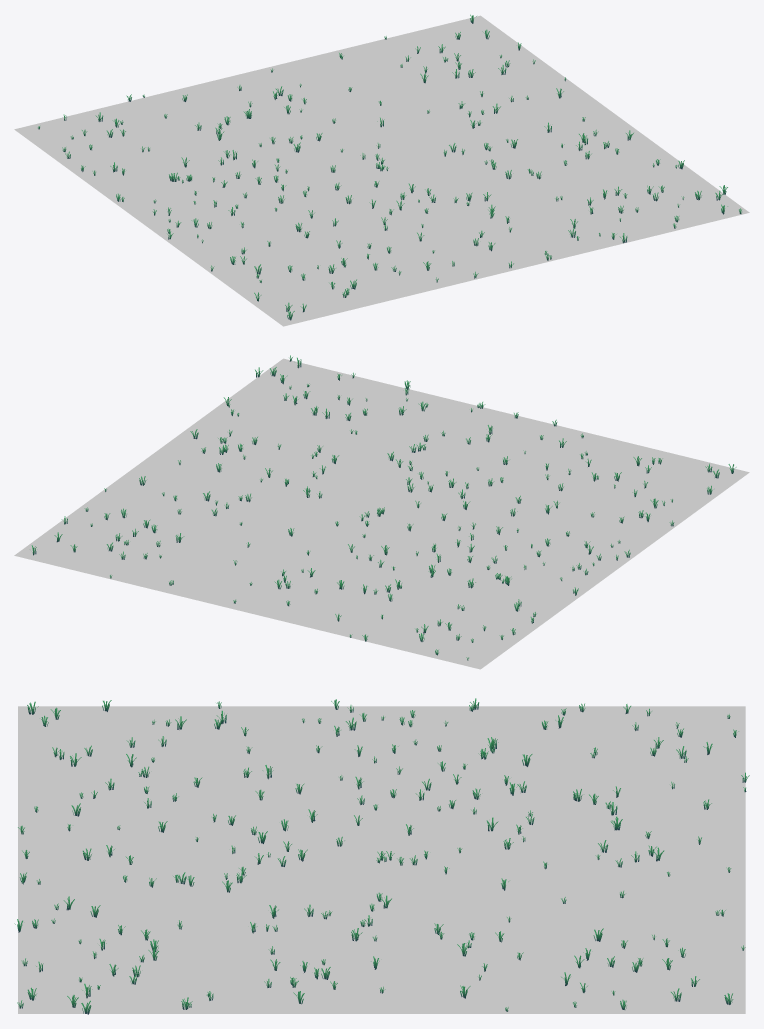
Rendered from Grass.glb.
The picture shows the model from 3 angles, top to bottom: view 1: azimuth 30°, elevation 25°; view 2: azimuth 150°, elevation 25°; view 3: azimuth 270°, elevation 25°; orthographic projection. The views are drawn at different scales.
Parts seen in each view (by area): view 1: Plane; view 2: Plane; view 3: Plane.
Part boxes in pixels (bbox=[...]): Plane: bbox=[14, 15, 749, 326]; Plane: bbox=[14, 358, 749, 669]; Plane: bbox=[18, 706, 745, 1013].
Bounding box in the file's own units: 67.38 × 1.23 × 67.67.
